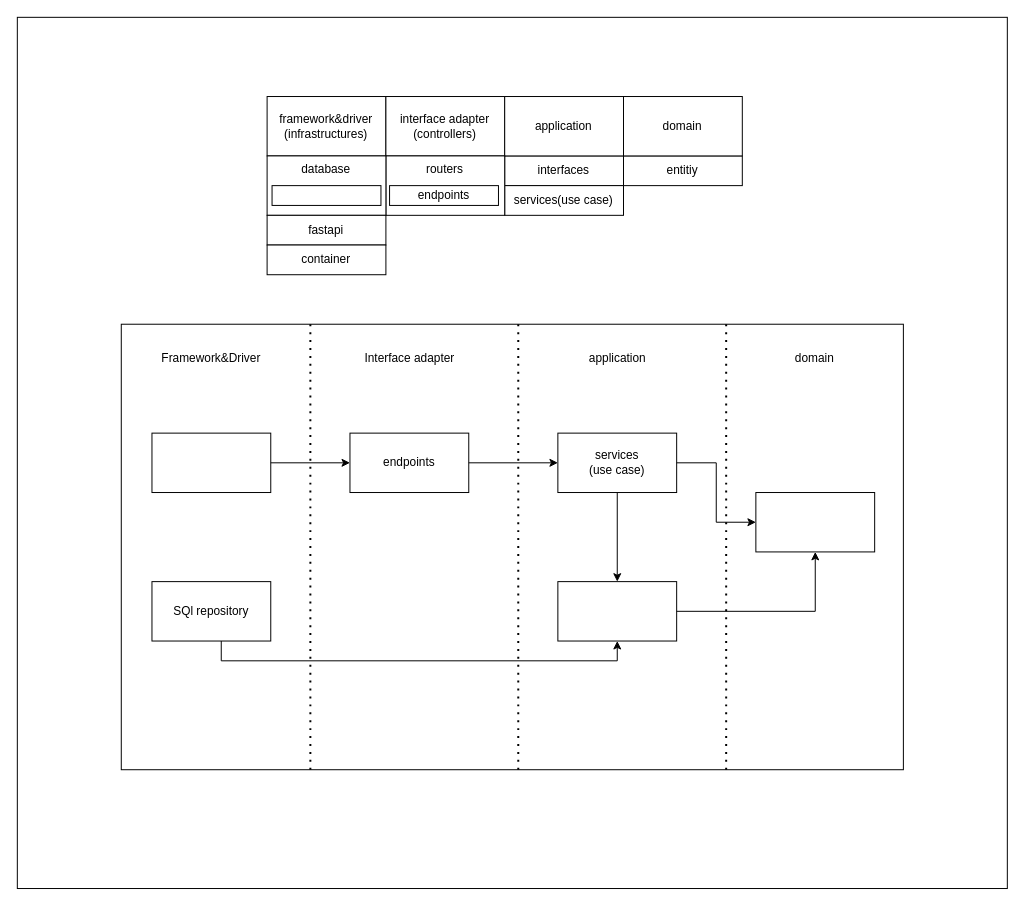
The diagram is 1025 pixels wide and 906 high, and some of its shapes have lost their labels. The centre of each missing label's shape, as x and y in pixels:
"entity (orm model)" goes at (x=815, y=522).
"fastapi app" goes at (x=211, y=462).
"interface (abstract repository)" goes at (x=617, y=611).
"repository" goes at (x=326, y=195).
